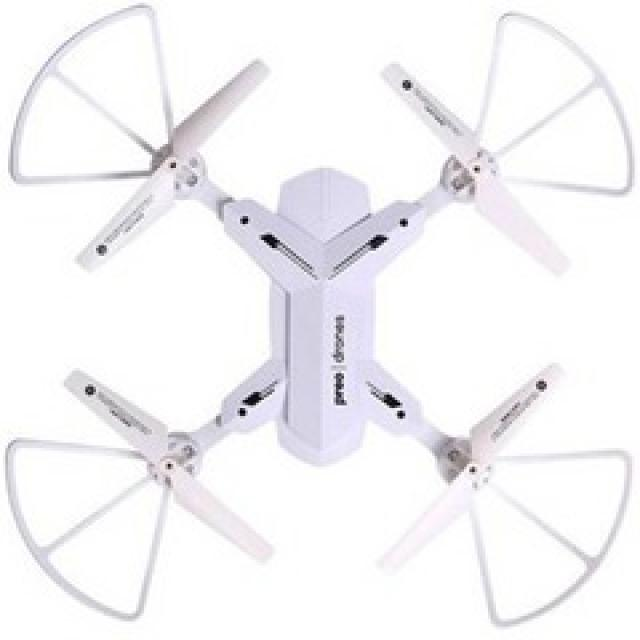drone: (8, 29, 624, 608)
